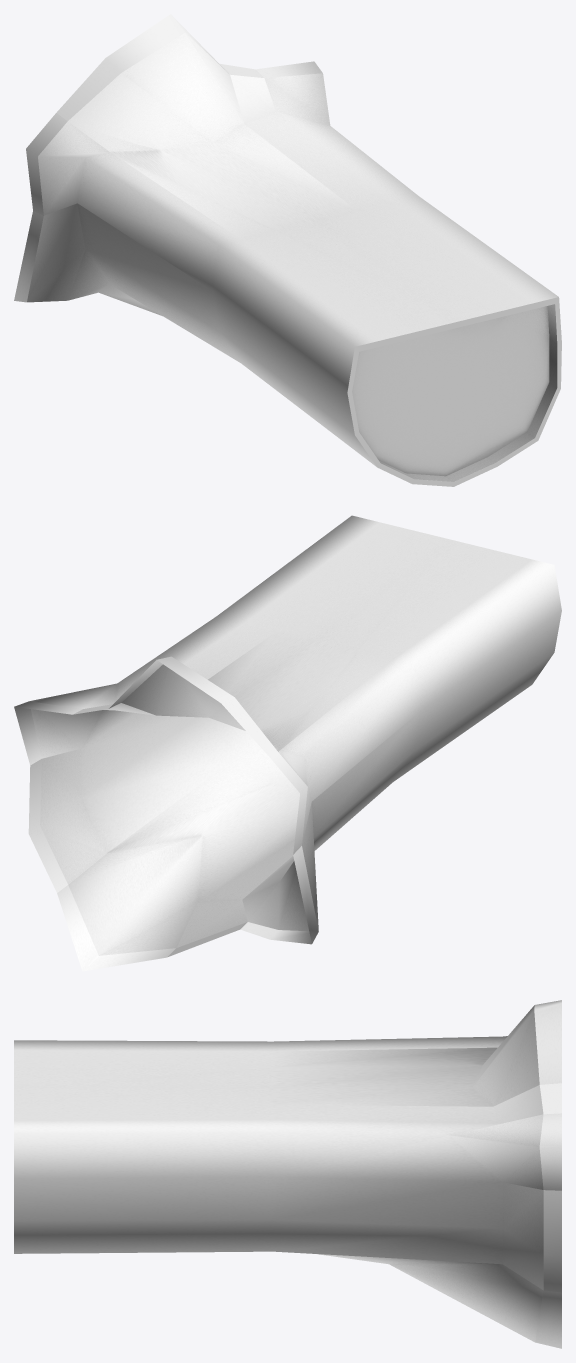
The model's file is a1_stumpform.fbx.
The picture shows the model from 3 angles, top to bottom: view 1: azimuth 30°, elevation 25°; view 2: azimuth 150°, elevation 25°; view 3: azimuth 270°, elevation 25°; orthographic projection. The views are drawn at different scales.
Parts seen in each view (by area): view 1: stump; view 2: stump; view 3: stump.
Part boxes in pixels (bbox=[...]): stump: bbox=[14, 14, 561, 486]; stump: bbox=[14, 515, 561, 971]; stump: bbox=[14, 1000, 561, 1348].
Bounding box in the file's own units: 501 × 530 × 846.
Materials: 2 (2 with a texture image).
